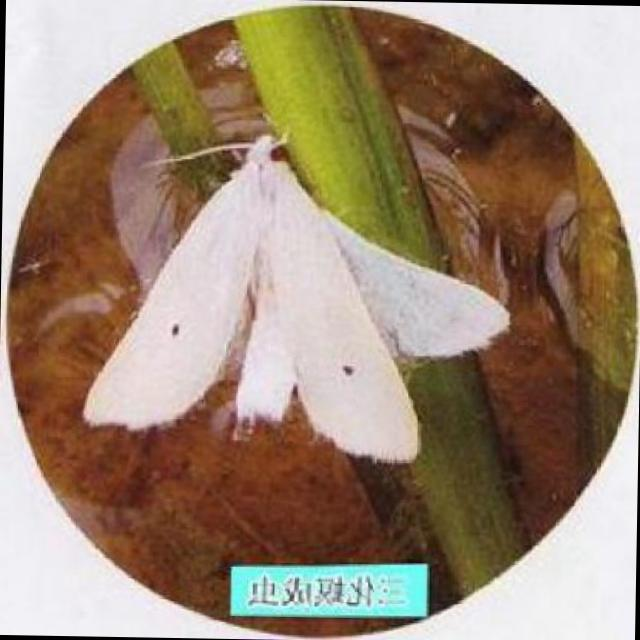stem-borer: (83, 135, 510, 461)
